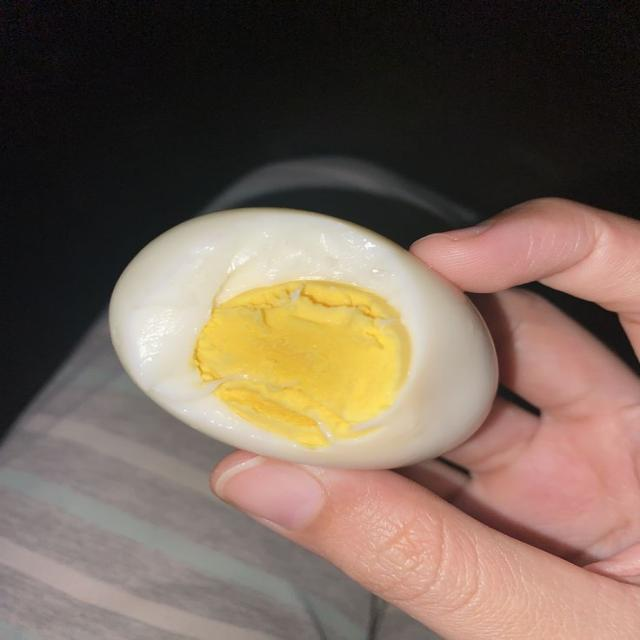egg boiled: (110, 209, 496, 468)
